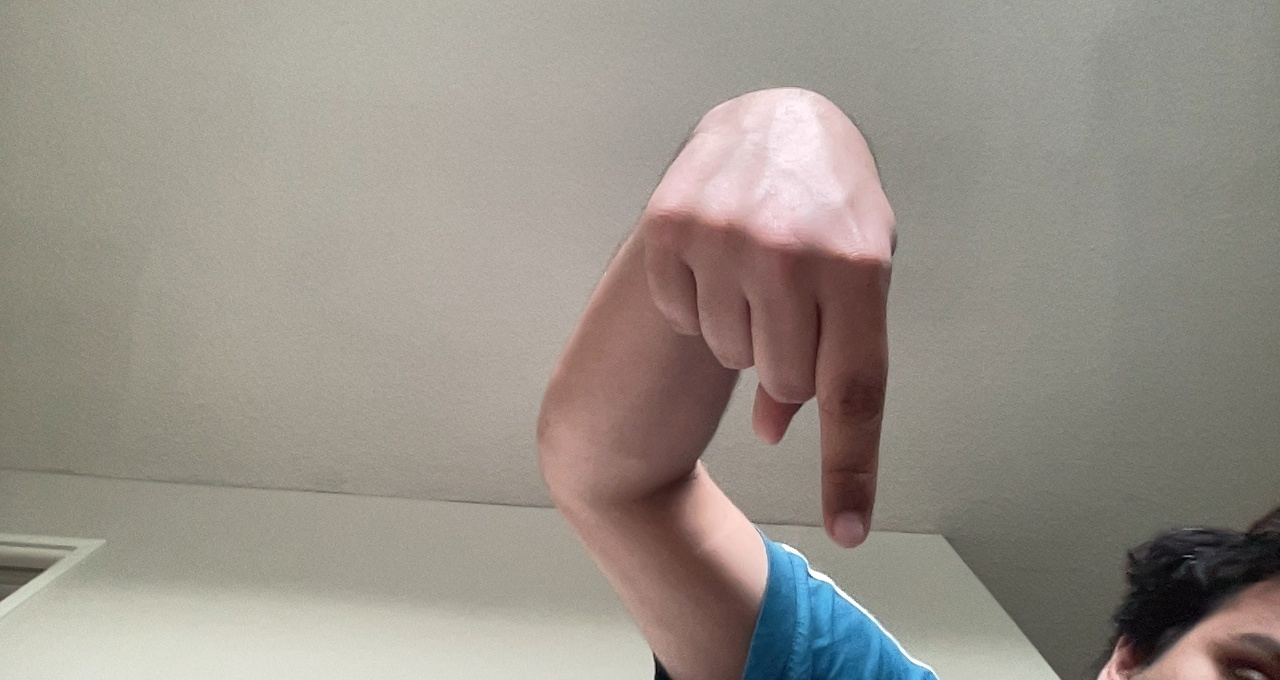fingerdown: (634, 84, 904, 551)
